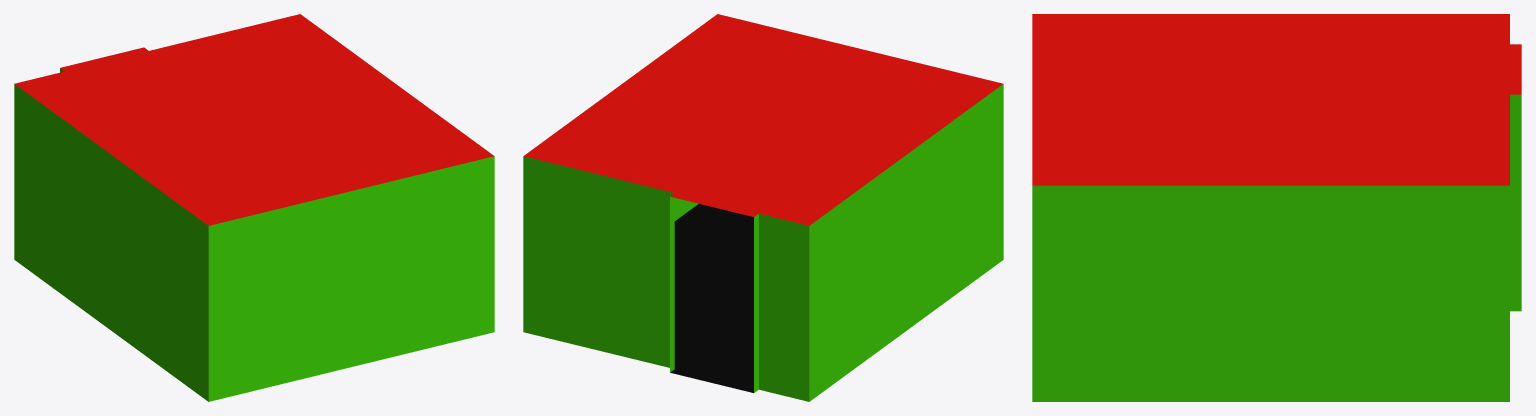
Rendered from Sanctuary_BathroomMesh.gltf.
3 renders of one model, left to right at view 1: azimuth 30°, elevation 25°; view 2: azimuth 150°, elevation 25°; view 3: azimuth 270°, elevation 25°, orthographic. The views are drawn at different scales.
Parts seen in each view (by area): view 1: Sanctuary_BathroomMesh2; view 2: Sanctuary_BathroomMesh2; view 3: Sanctuary_BathroomMesh2.
Part boxes in pixels (left/top/right/bottom): Sanctuary_BathroomMesh2: left=14, top=14, right=494, bottom=401; Sanctuary_BathroomMesh2: left=523, top=14, right=1003, bottom=401; Sanctuary_BathroomMesh2: left=1032, top=14, right=1521, bottom=401.
Bounding box in the file's own units: 17 × 10 × 20.5.
